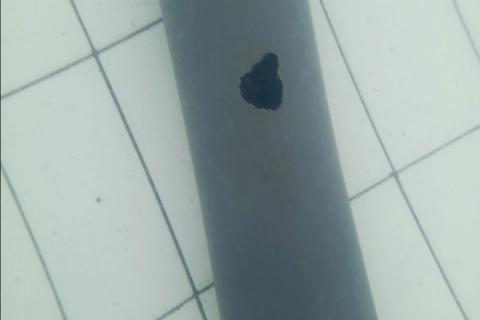kebocoran: (239, 49, 285, 115)
